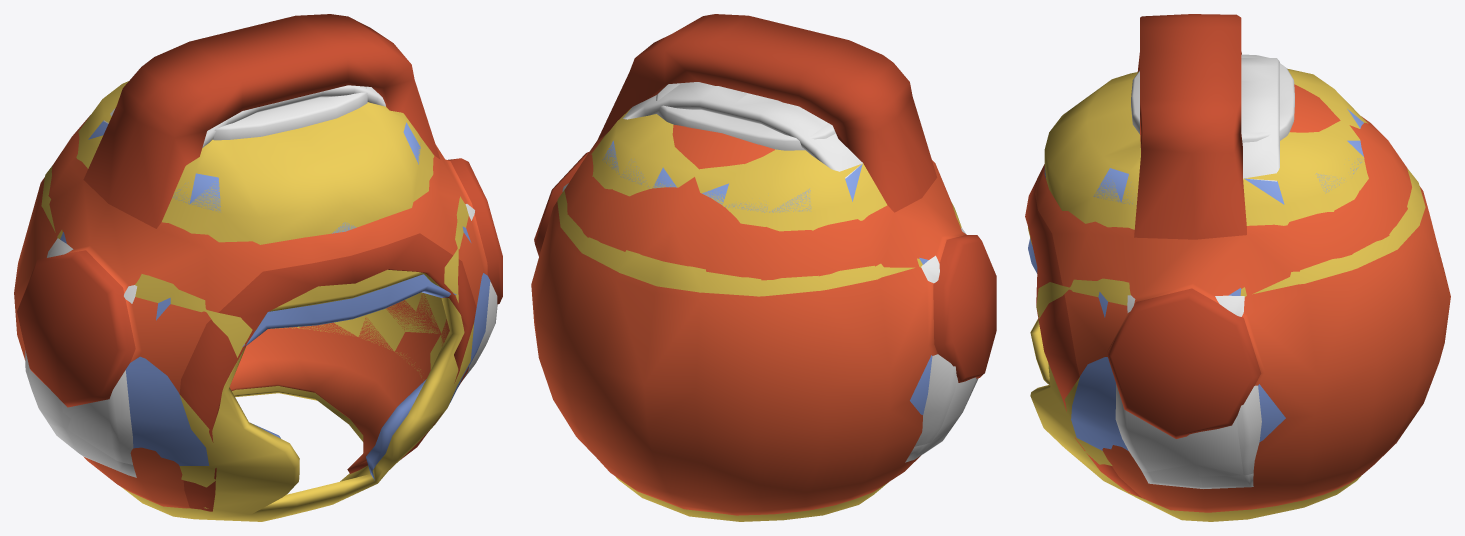
File: Heads.fbx
The picture shows the model from 3 angles, left to right: view 1: azimuth 30°, elevation 25°; view 2: azimuth 150°, elevation 25°; view 3: azimuth 270°, elevation 25°; orthographic projection. The views are drawn at different scales.
Parts seen in each view (by area): view 1: Head_1_SM, Head_2_SM, Head_3_SM; view 2: Head_1_SM, Head_2_SM, Head_3_SM; view 3: Head_1_SM, Head_2_SM, Head_3_SM.
Part boxes in pixels (<box>): Head_1_SM: <box>14,14,502,511</box>; Head_2_SM: <box>29,81,474,521</box>; Head_3_SM: <box>25,85,497,480</box>; Head_1_SM: <box>531,14,996,515</box>; Head_2_SM: <box>557,83,976,521</box>; Head_3_SM: <box>568,82,978,446</box>; Head_1_SM: <box>1025,14,1450,512</box>; Head_2_SM: <box>1028,54,1425,521</box>; Head_3_SM: <box>1028,58,1363,488</box>.
Bounding box in the file's own units: 0.727 × 0.7006 × 0.6364.
